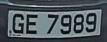7: (44, 14, 61, 36)
8: (72, 12, 86, 36)
9: (85, 11, 98, 36), (60, 13, 73, 36)
F: (25, 13, 40, 36)
G: (13, 13, 26, 36)
